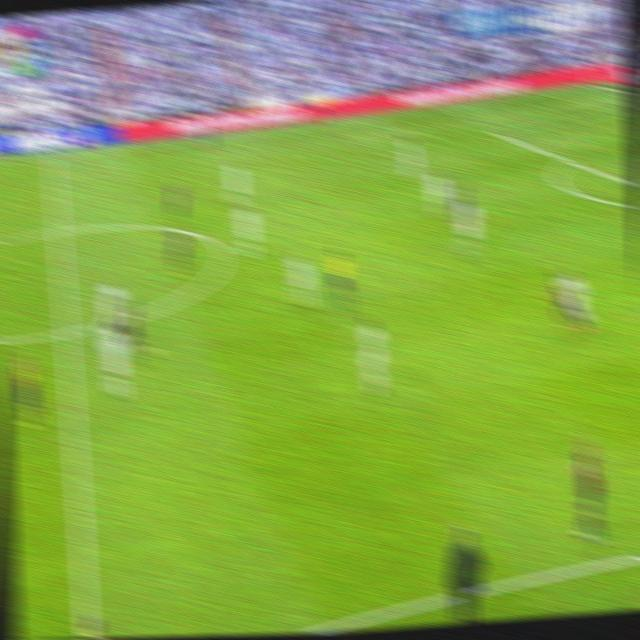bigarea_bottom_outter: (560, 152, 578, 169)
halfcircle_bottom: (56, 315, 78, 348)
halfcircle_top: (48, 216, 69, 244)
midline_top_intersection: (44, 149, 61, 164)
top_arc_area_intersection: (561, 152, 578, 169)
